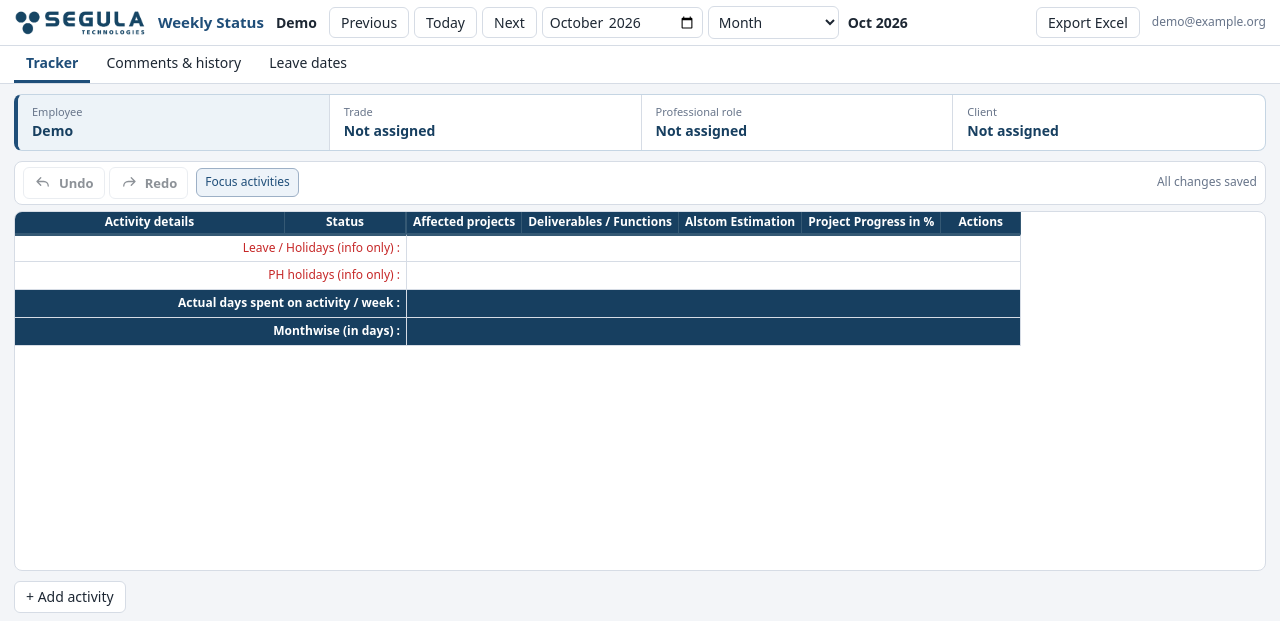
Scenario: removes the repeated interval label in Date range mode
Select "Date range" in the dropdown named "View" at [773, 22], box [708,6,839,39]
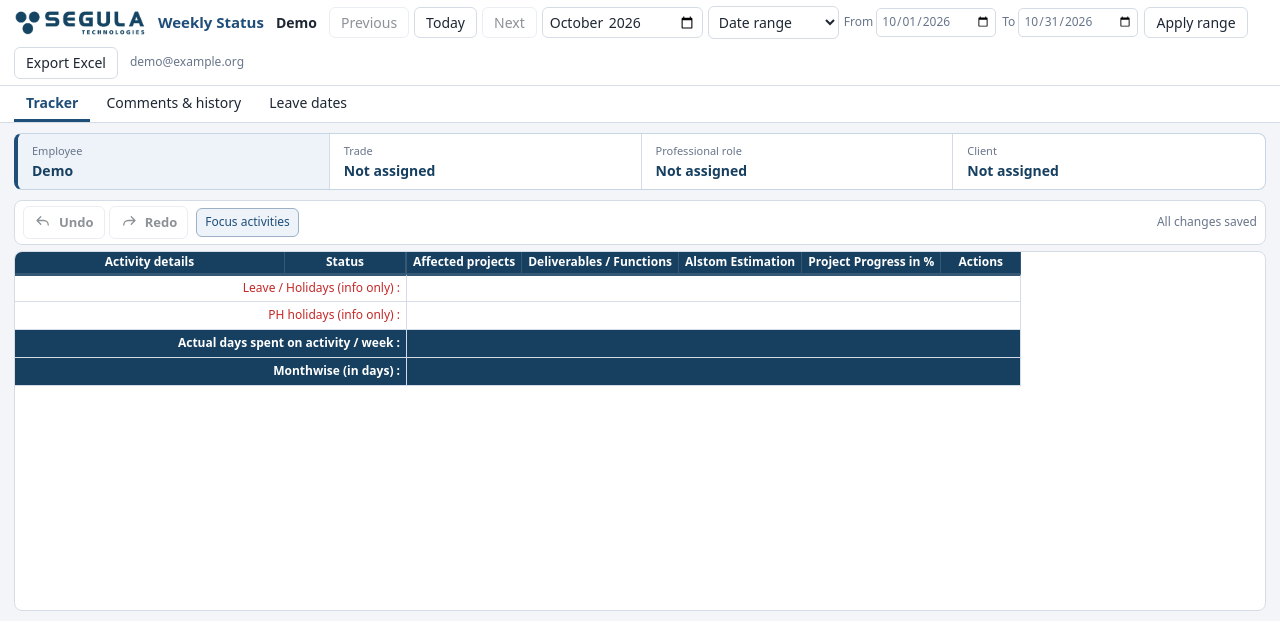
Now the date field named "Range from" is shown, box [876,8,996,37]
Now the text with test id "period-label" is gone
